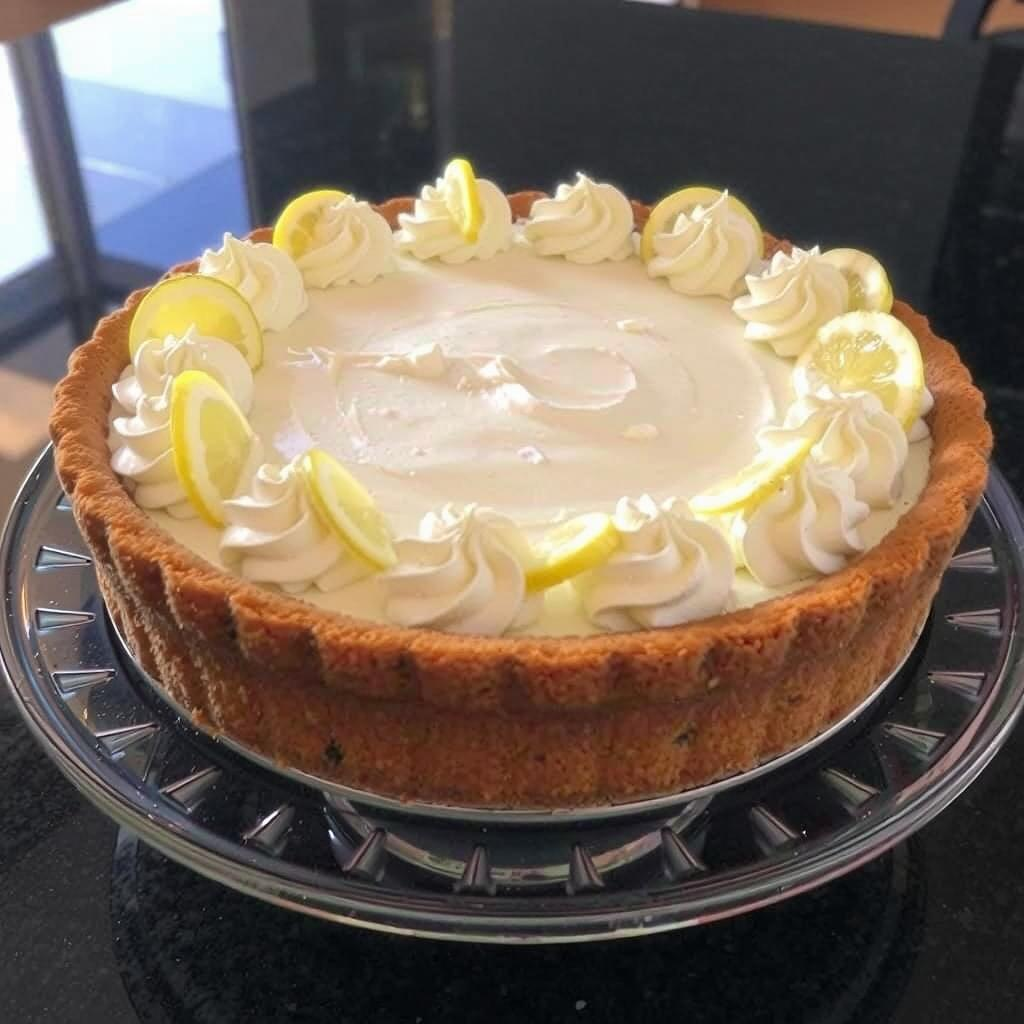pie: (43, 154, 1000, 810)
